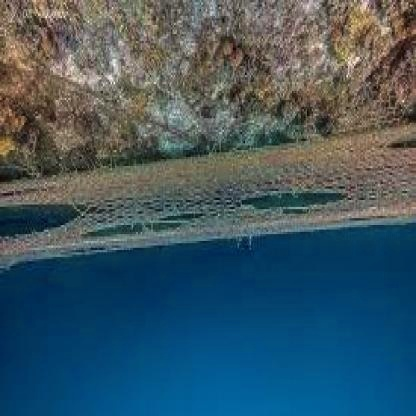net: (1, 134, 416, 263)
